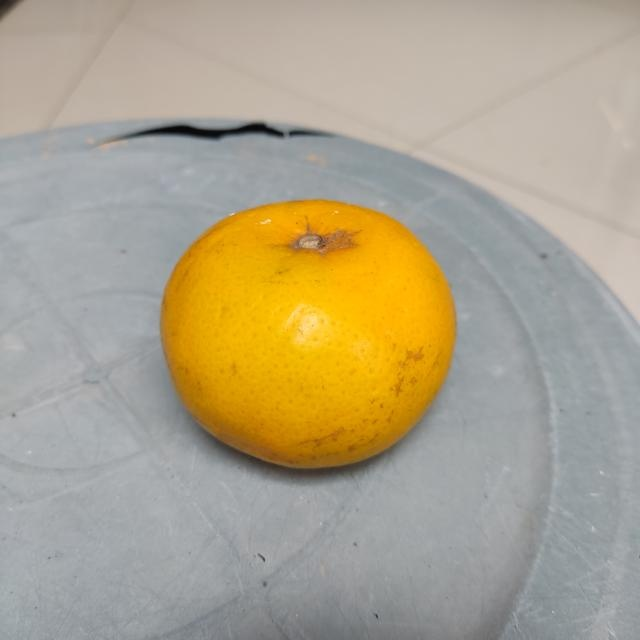agrume: (151, 198, 458, 472)
